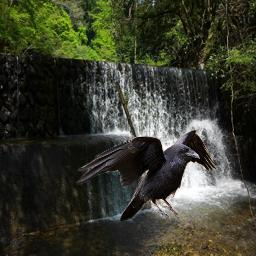Crow: (76, 129, 217, 221)
